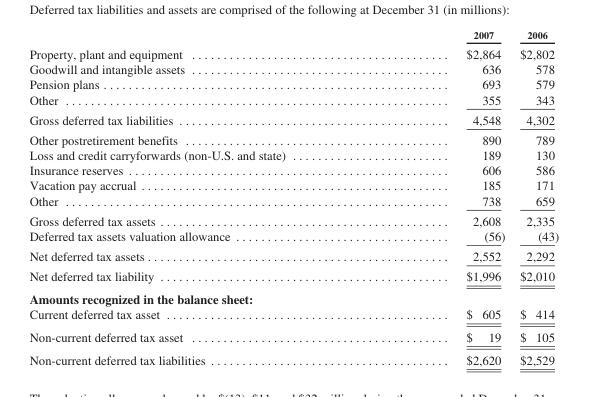table: (28, 28, 558, 366)
table column: (28, 28, 375, 366), (375, 28, 511, 366), (511, 28, 558, 366)
table column header: (28, 28, 558, 43)
table projected row header: (28, 287, 558, 306)
table row: (28, 265, 558, 287), (28, 325, 558, 347), (28, 109, 558, 129), (28, 245, 558, 265), (28, 287, 558, 306), (28, 306, 558, 325), (28, 347, 558, 366), (28, 43, 558, 61), (28, 91, 558, 109), (28, 129, 558, 147), (28, 192, 558, 210), (28, 210, 558, 228), (28, 228, 558, 245), (28, 28, 558, 43), (28, 61, 558, 76), (28, 76, 558, 91), (28, 147, 558, 162), (28, 162, 558, 177), (28, 177, 558, 192)
